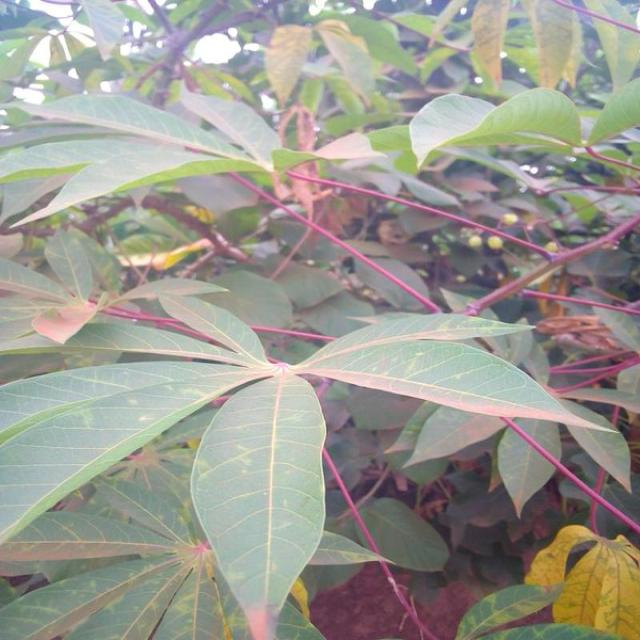cassava leaf: (190, 370, 328, 634), (409, 85, 583, 171)
